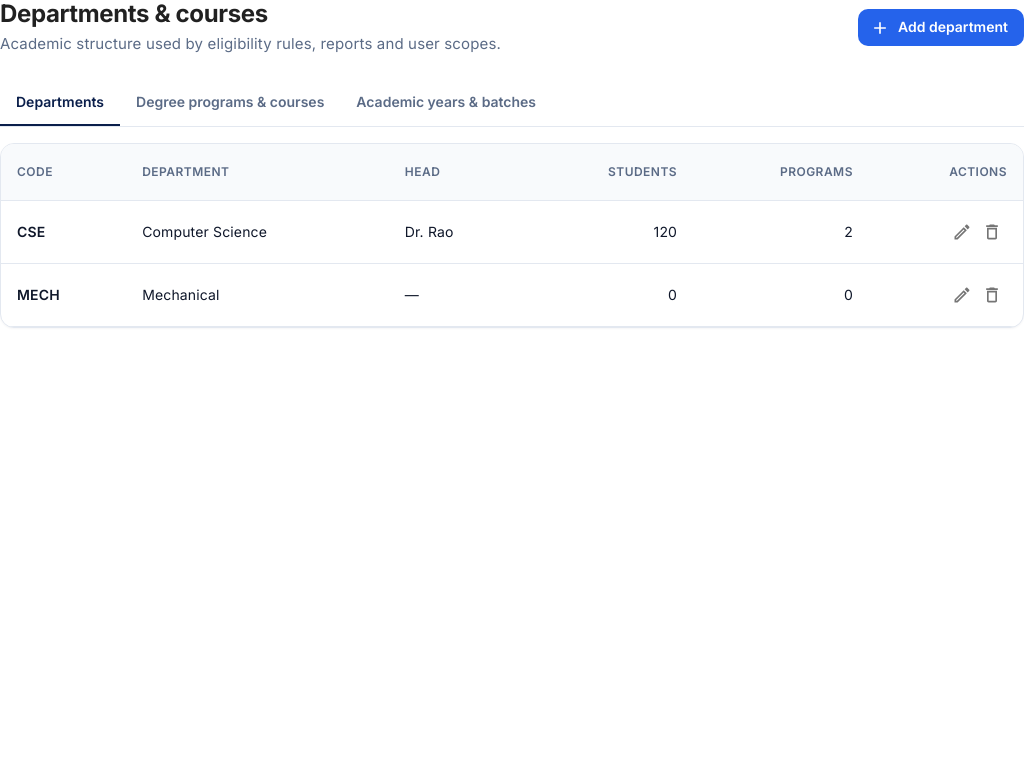
it: deleting › a department that is still in use (409) shows the server message to the admin and stays listed
Click the button named "Delete CSE". click: (992, 232)
box: [977,217,1007,247]
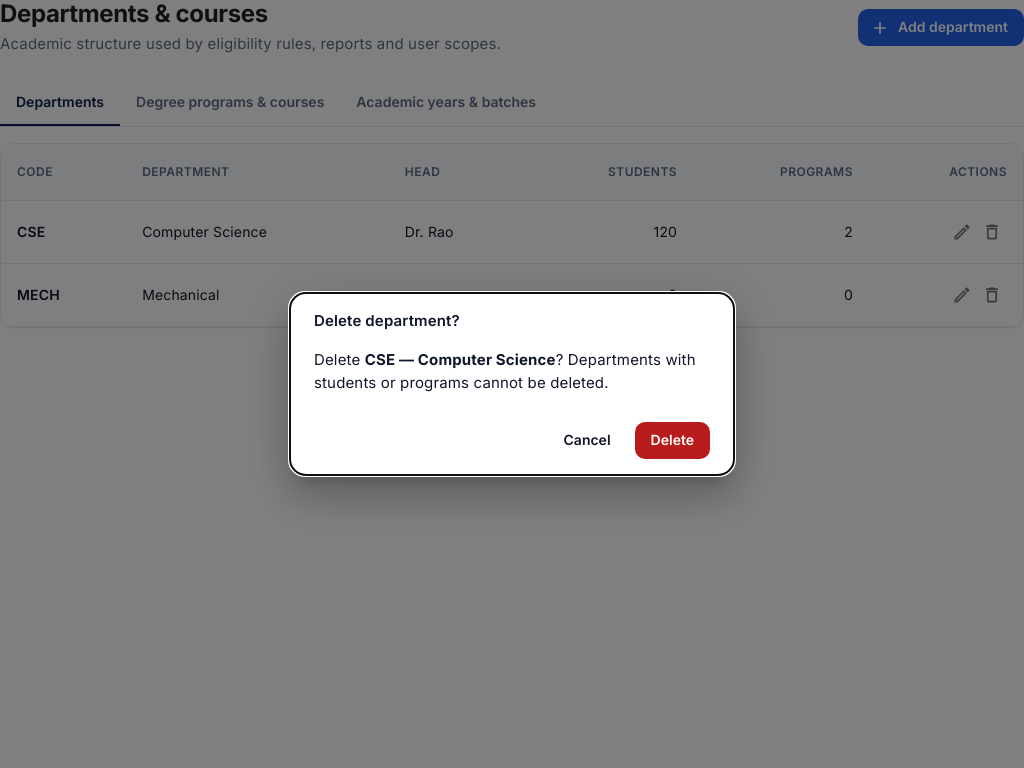
Click the button "Delete". click: (672, 441)
box: [635,422,710,459]
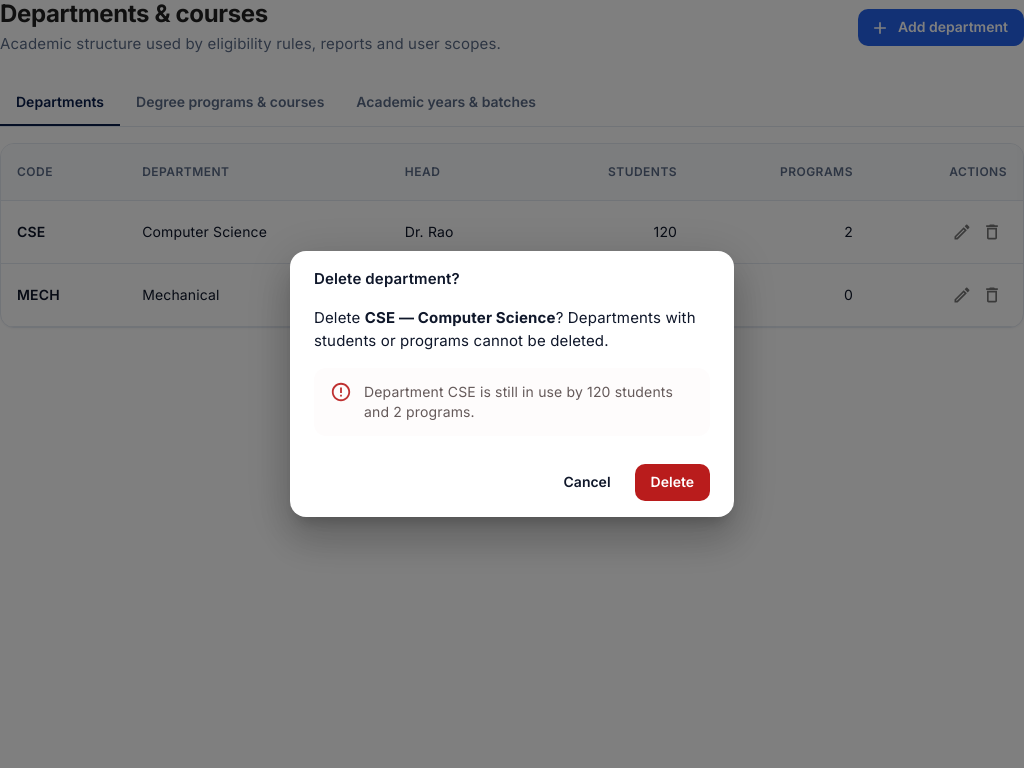
Result: the text "Department CSE is still in use by 120 students and 2 programs." is shown at [364,374,694,430]
